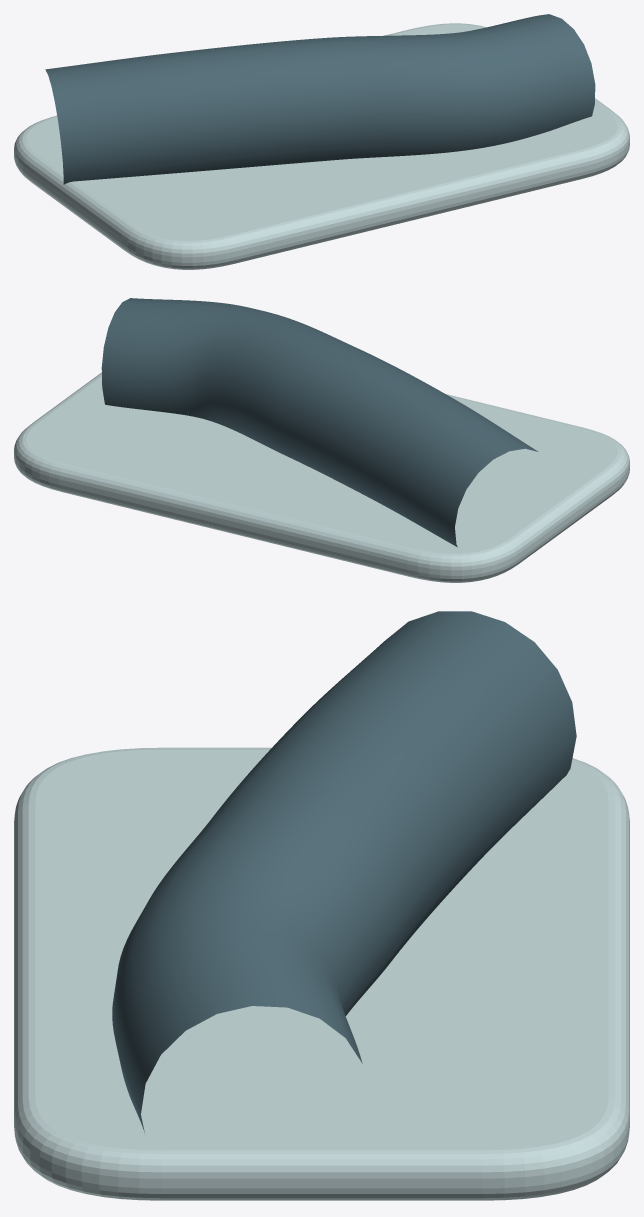
3 renders of one model, top to bottom at view 1: azimuth 30°, elevation 25°; view 2: azimuth 150°, elevation 25°; view 3: azimuth 270°, elevation 25°, orthographic. The views are drawn at different scales.
Parts seen in each view (by area): view 1: curved-shore, environment-water; view 2: environment-water, curved-shore; view 3: environment-water, curved-shore.
Boxes of the visible parts, <box> form: curved-shore: <box>45,14,595,184</box>; environment-water: <box>14,23,629,269</box>; environment-water: <box>14,372,629,582</box>; curved-shore: <box>101,298,538,547</box>; environment-water: <box>14,747,629,1200</box>; curved-shore: <box>112,611,576,1133</box>.
Size of the model in its own units: 3.71 by 0.9887 by 2.3.
